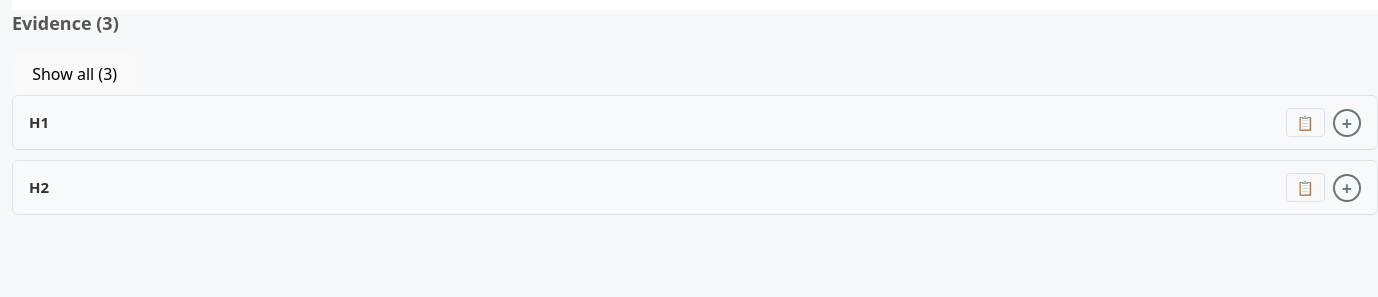
Test: EvidencePanel collapse/expand › toggle shows all N items and back to 2
What coordinates should you click on to do the following:
click the button "Show all (3)"
I would click on:
 (75, 74)
Its box is [12,52,137,95].
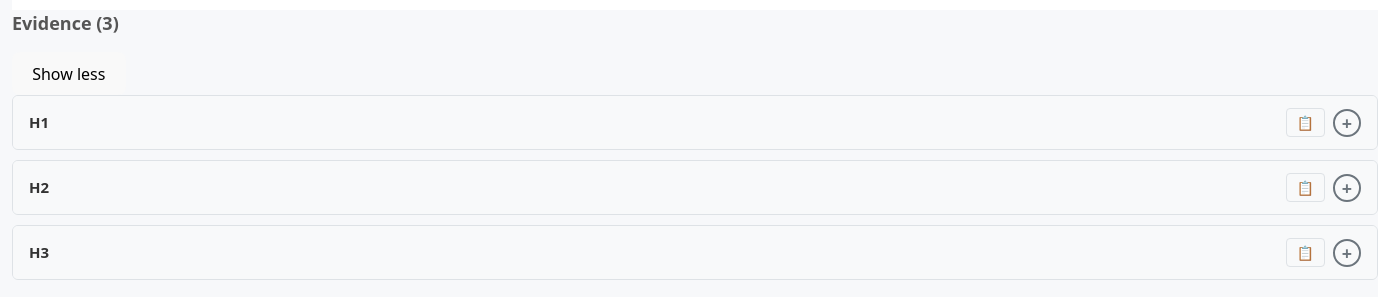
Result: the number of elements with class "evidence-item" is 3 at [12,95,1377,150]; [12,160,1377,215]; [12,225,1377,280]
What coordinates should you click on to do the following:
click the button "Show less"
I would click on:
 (69, 74)
Its box is [12,52,126,95].
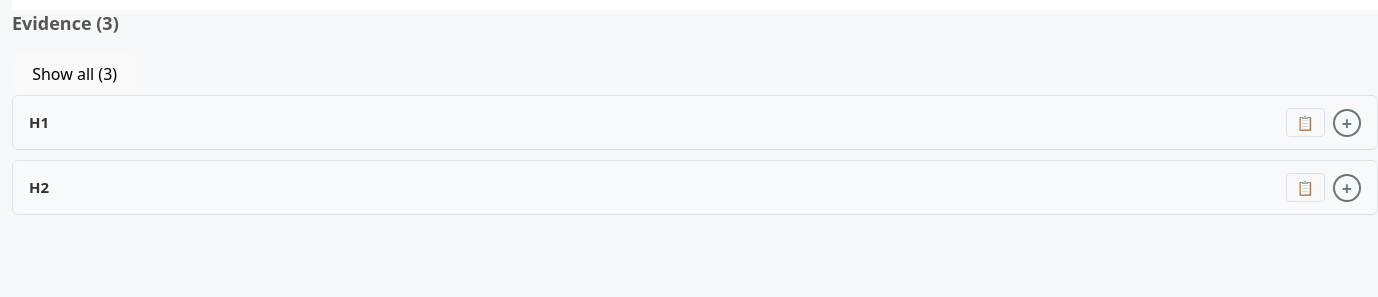
Result: the number of elements with class "evidence-item" is 2 at [12,95,1377,150]; [12,160,1377,215]
